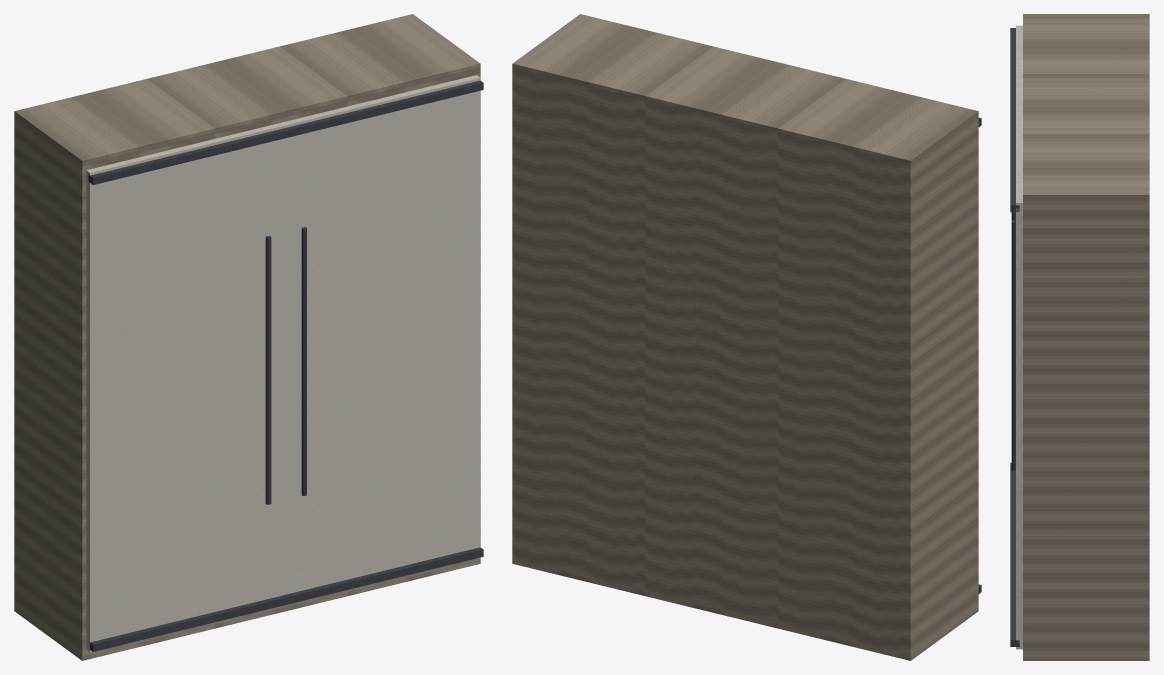
File: wardrobe-sliding-2000_lod2.glb
The picture shows the model from 3 angles, left to right: view 1: azimuth 30°, elevation 25°; view 2: azimuth 150°, elevation 25°; view 3: azimuth 270°, elevation 25°; orthographic projection. The views are drawn at different scales.
Parts seen in each view (by area): view 1: door_1, door_2, body, top_track, bottom_track, handle_1, handle_2; view 2: body; view 3: body, door_2, handle_2, top_track, bottom_track, door_1.
Part boxes in pixels (box(x1,y1,x2,y2)): door_1: box(86, 122, 285, 652); door_2: box(282, 75, 480, 594); body: box(14, 14, 480, 660); top_track: box(88, 80, 483, 184); bottom_track: box(90, 547, 483, 651); handle_1: box(265, 236, 271, 504); handle_2: box(301, 227, 306, 495); body: box(512, 14, 978, 660); body: box(1023, 14, 1149, 660); door_2: box(1016, 114, 1022, 649); handle_2: box(1011, 220, 1015, 470); top_track: box(1010, 28, 1019, 212); bottom_track: box(1010, 462, 1019, 646); door_1: box(1016, 25, 1022, 114).
Bounding box in the file's own units: 2 × 2.4 × 0.65.
Materials: 3 (3 with a texture image).
